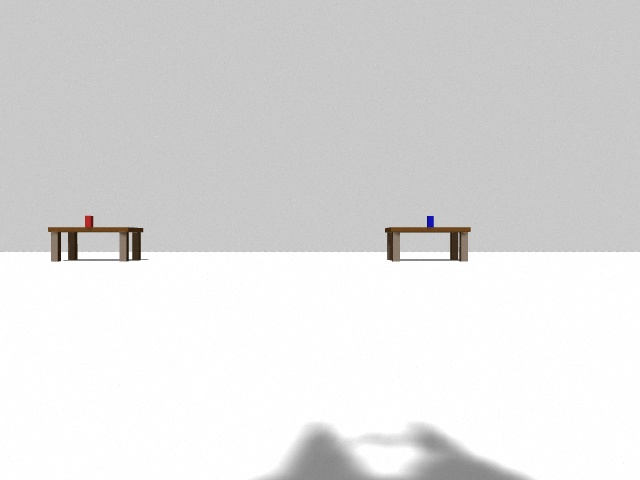blue_cube: (427, 216, 434, 227)
red_cube: (85, 216, 91, 228)
